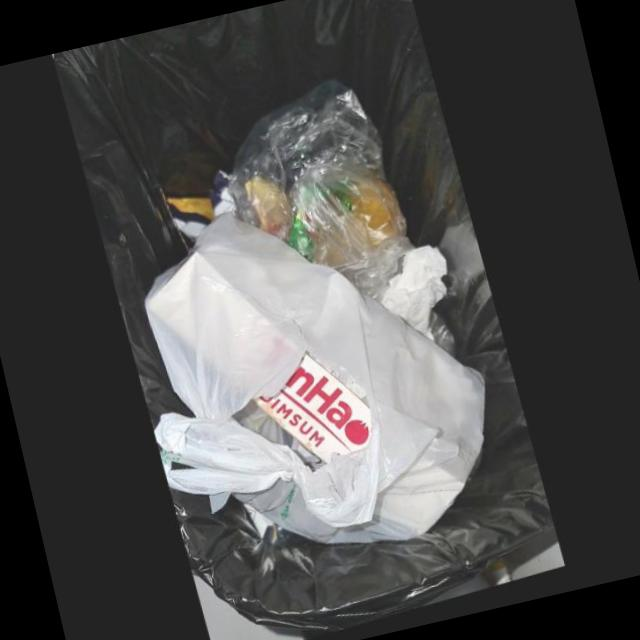bao_bi_thuc_pham: (169, 174, 241, 241)
carton: (254, 356, 374, 466)
tui_ni_long: (146, 217, 488, 549)
